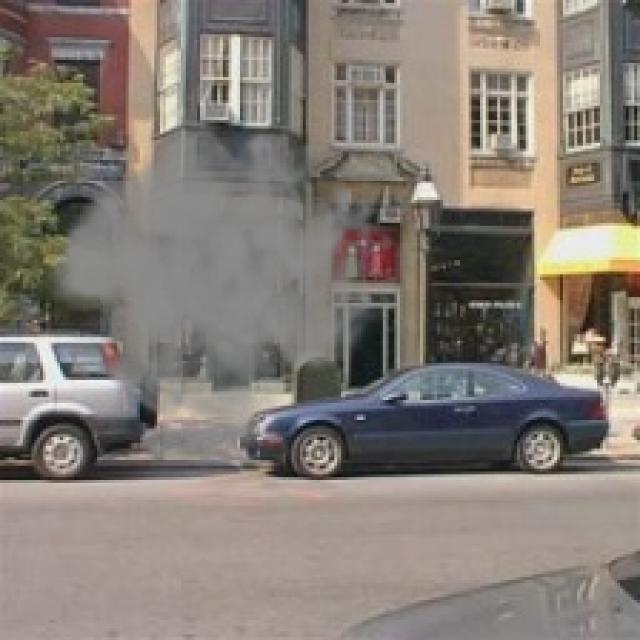smoke: (46, 97, 397, 454)
